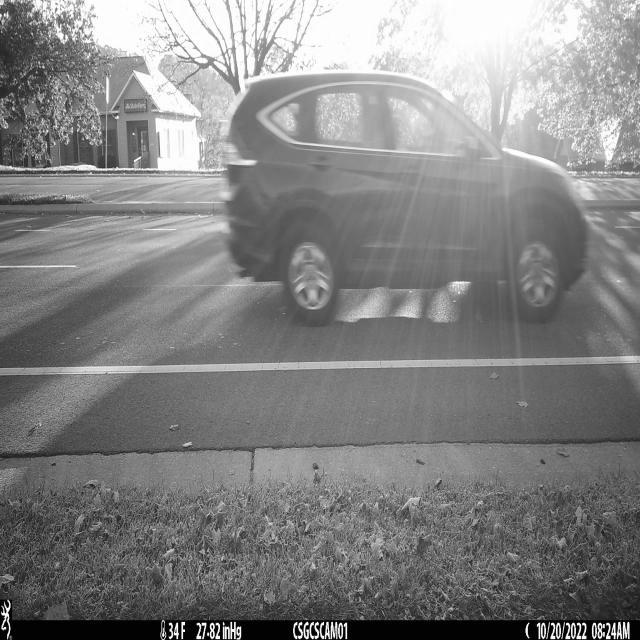SUV: (222, 71, 589, 328)
